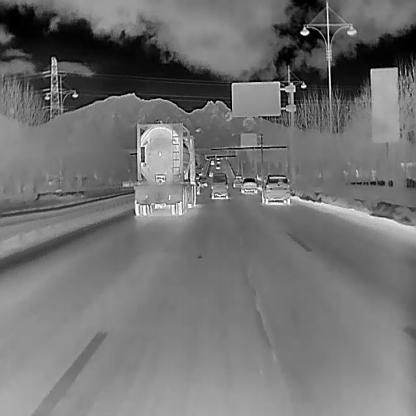car: (133, 121, 197, 216), (260, 173, 290, 204), (210, 171, 228, 199), (240, 177, 257, 193), (232, 174, 243, 187), (198, 177, 207, 187), (197, 167, 202, 175), (208, 171, 214, 176), (209, 159, 214, 165), (215, 164, 219, 169), (217, 158, 221, 163)
